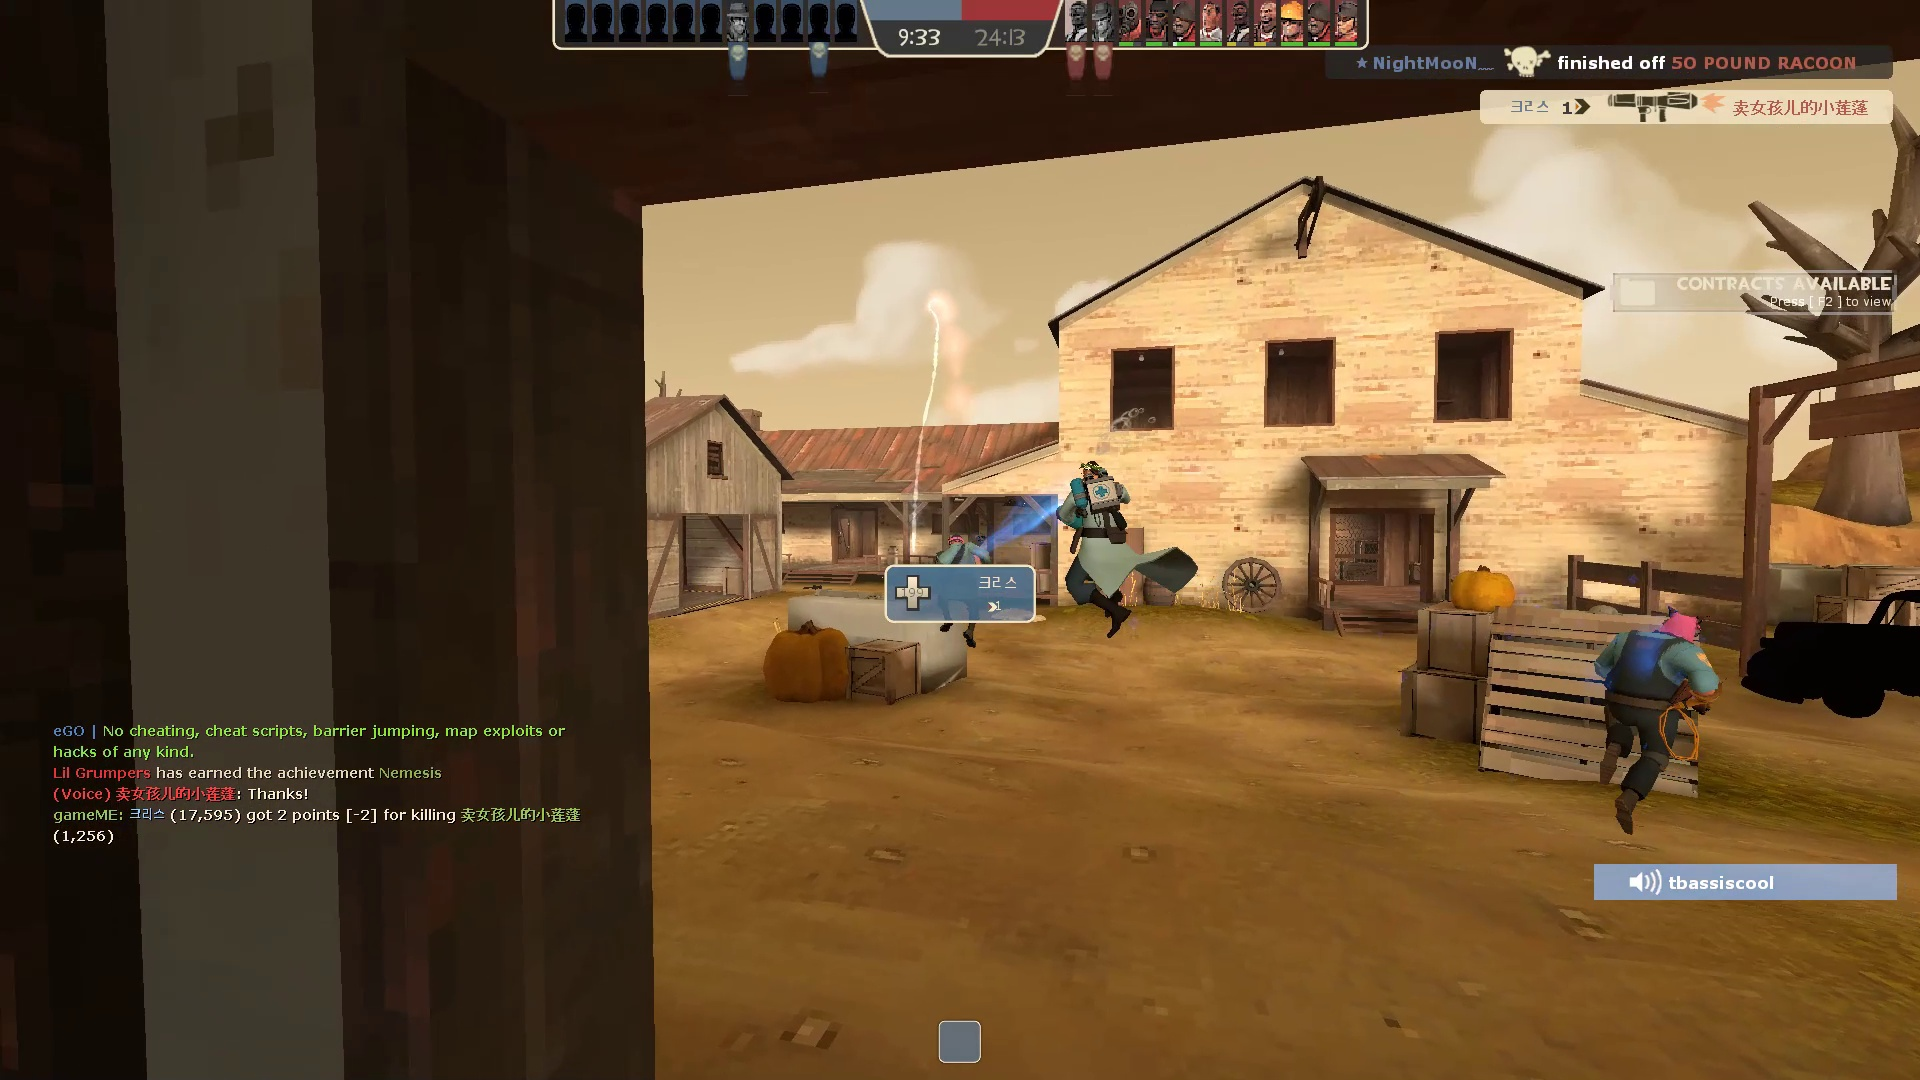blu_engineer: (1580, 595, 1724, 848)
blu_medic: (1051, 454, 1199, 644)
blu_soldier: (928, 529, 1000, 645)
